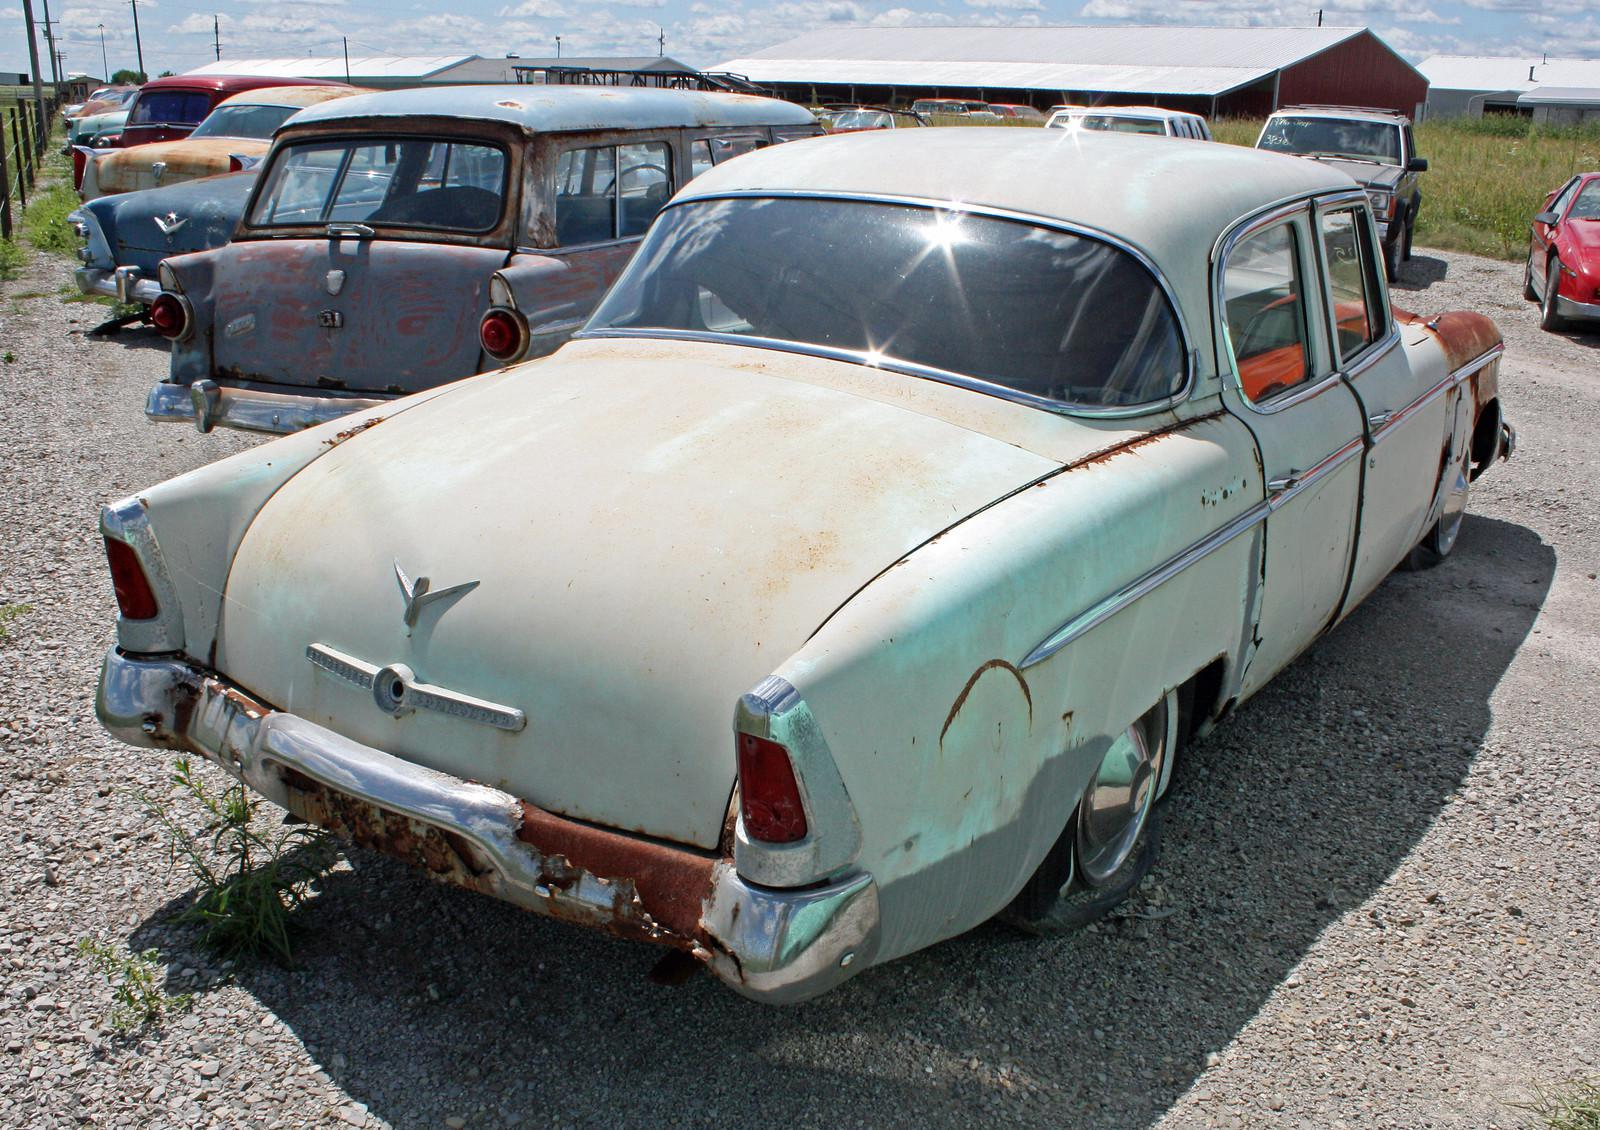rear-bumper-dent: (170, 759, 843, 965)
